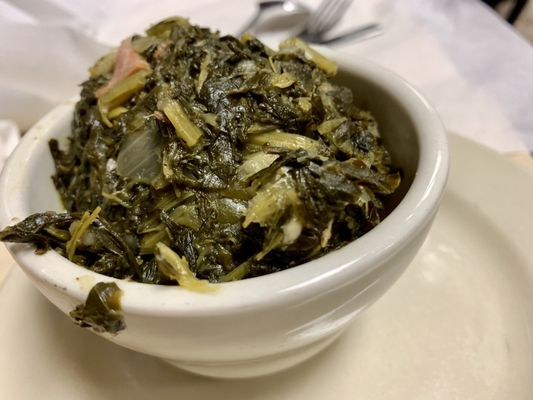curry: (20, 17, 397, 289)
sushi: (15, 10, 452, 380)
